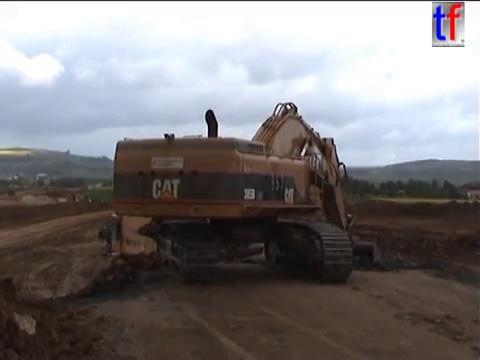excavator: (108, 99, 387, 285), (62, 191, 89, 207)
truck: (96, 211, 267, 285), (5, 186, 16, 197)
